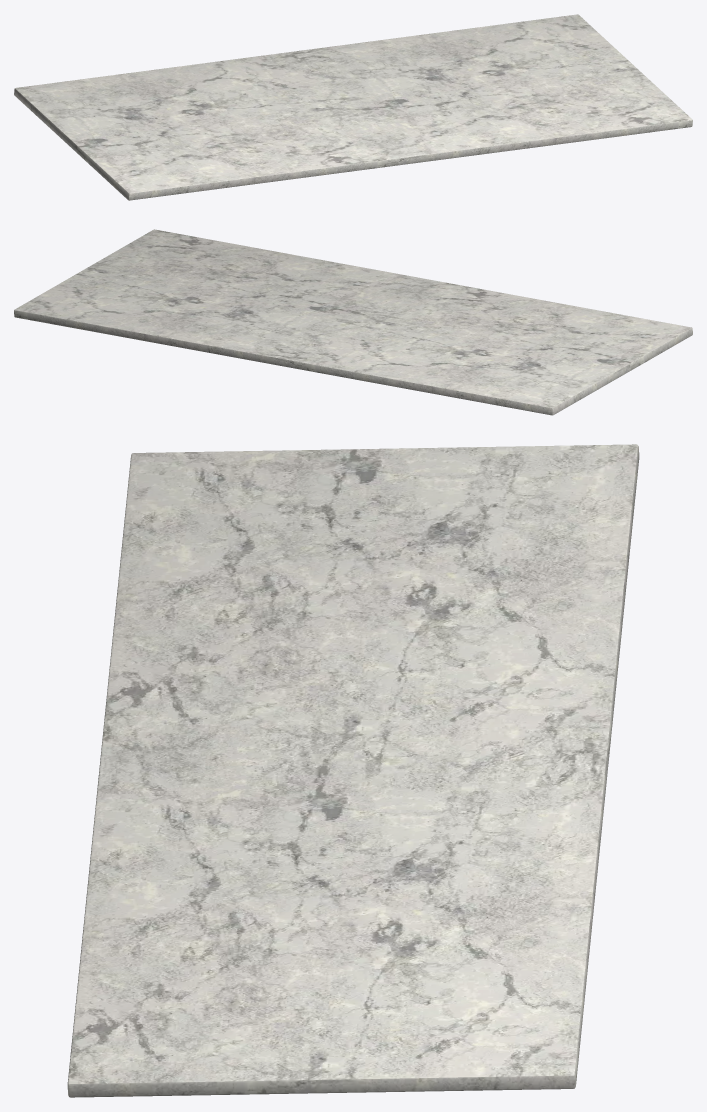
Rendered from REV-PED-002_anim.glb.
3 renders of one model, top to bottom at view 1: azimuth 30°, elevation 25°; view 2: azimuth 150°, elevation 25°; view 3: azimuth 270°, elevation 25°, orthographic. The views are drawn at different scales.
Parts seen in each view (by area): view 1: REV-PED-002_anim0; view 2: REV-PED-002_anim0; view 3: REV-PED-002_anim0.
Boxes of the visible parts, x1,y1,x2,y2 form: REV-PED-002_anim0: [14, 14, 692, 200]; REV-PED-002_anim0: [14, 229, 692, 415]; REV-PED-002_anim0: [67, 444, 639, 1097].
Bounding box in the file's own units: 1.53 × 0.1711 × 0.674.
1 material, 1 textured.
